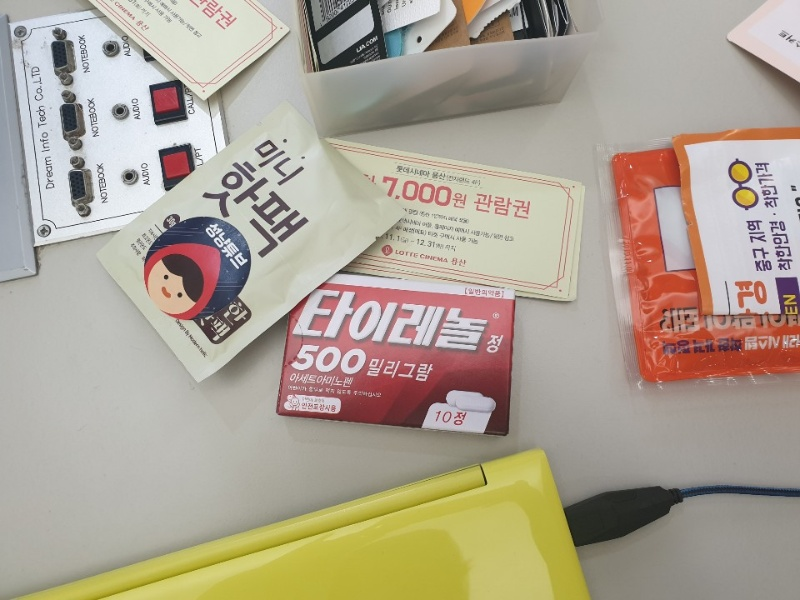tylenol: (281, 275, 515, 439)
